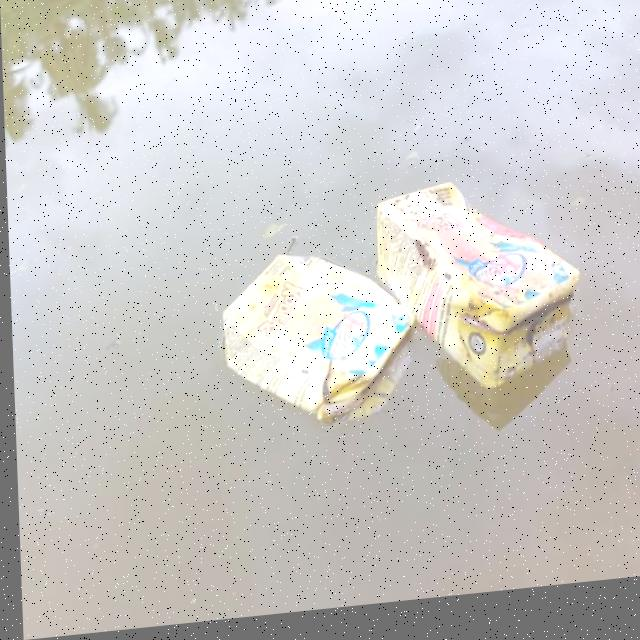paper: (381, 175, 591, 399), (194, 238, 409, 433)
